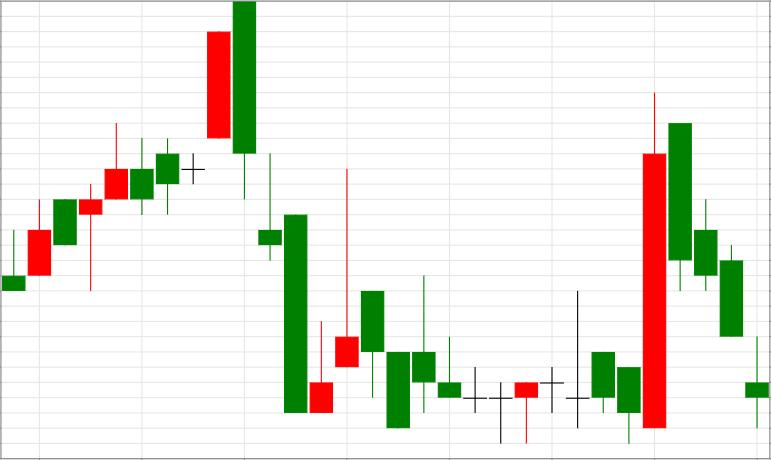bearish_engulfing_fall: (28, 1, 256, 291)
inverse_hammer_rise: (233, 1, 333, 414)
